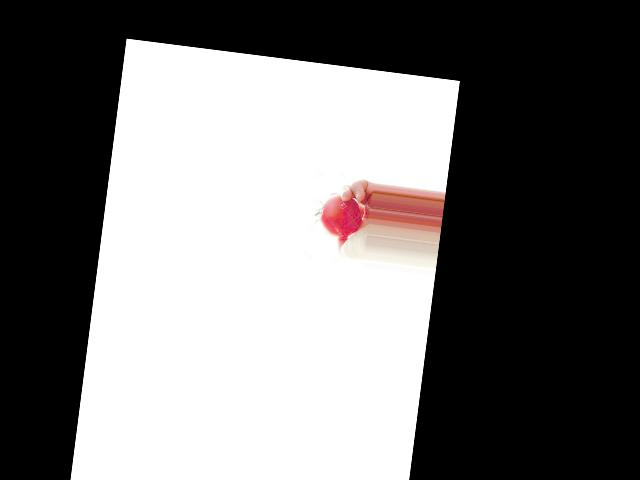tomato: (316, 190, 364, 240)
